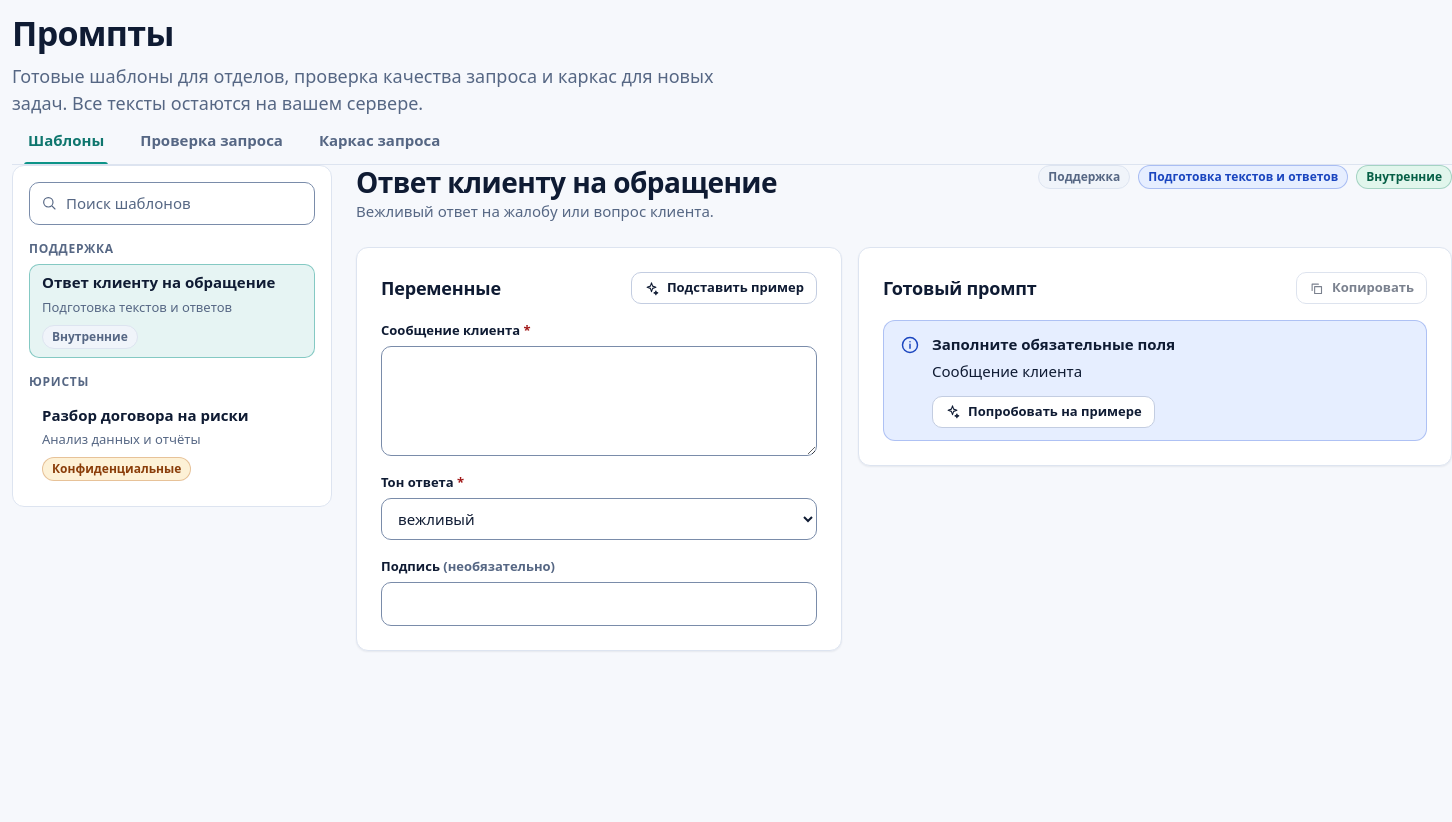
it: PromptsPage: шаблоны › ошибка сервера при сборке показывается списком, а не пустым экраном
The width and height of the screenshot is (1452, 822).
Expected: the heading "Ответ клиенту на обращение" is shown, [356,165,777,200]
Click the button "Подставить пример".
click(724, 288)  # box [631,272,817,304]
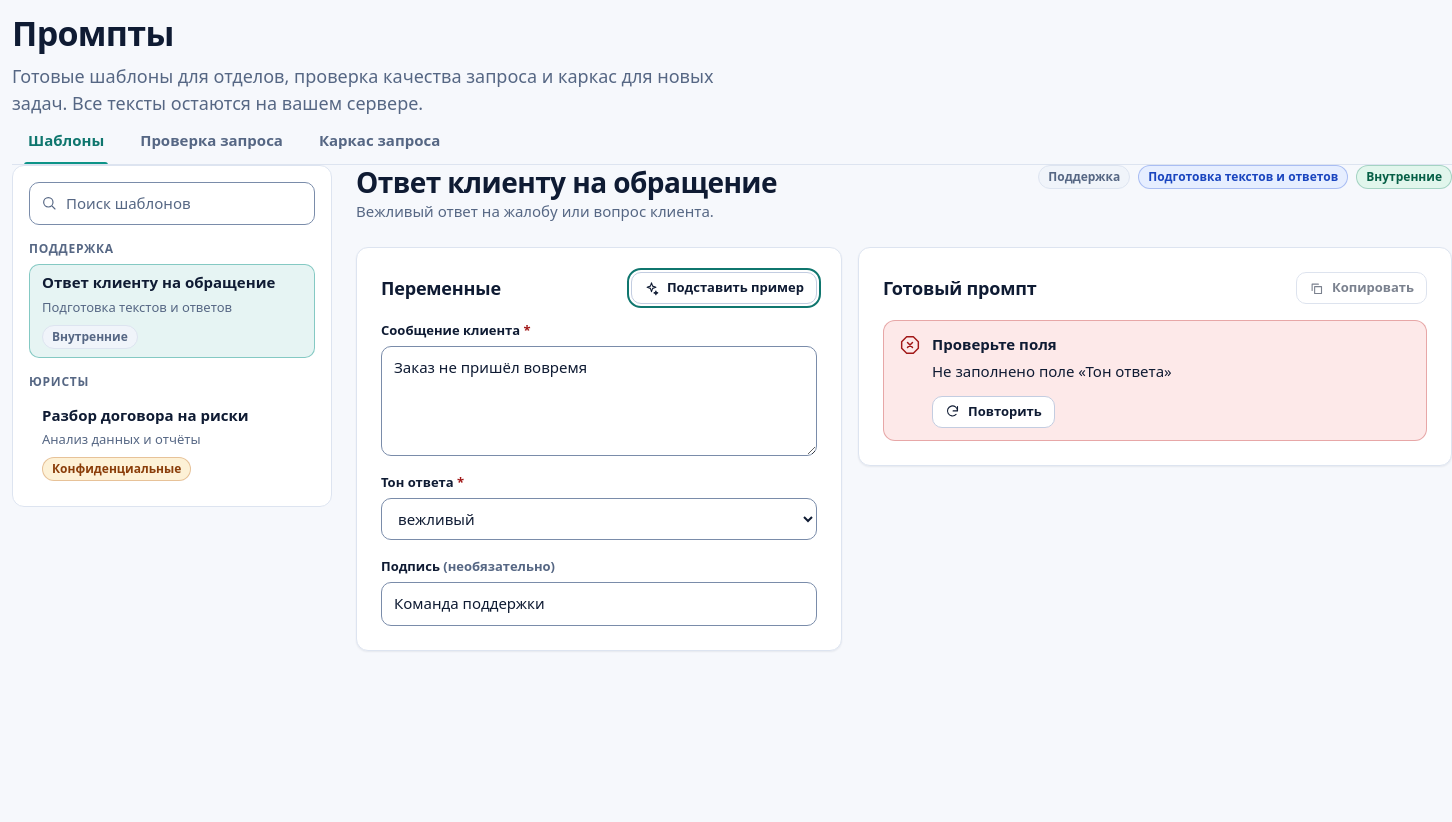
Expected: the list item "Не заполнено поле «Тон ответа»" is shown, [932,361,1172,381]
